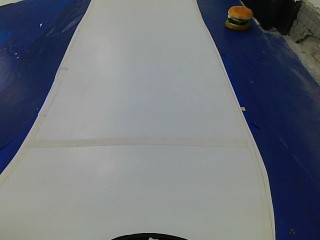burger: (214, 1, 258, 39)
